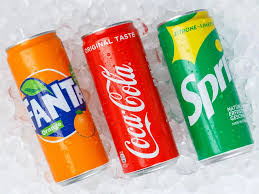can: (4, 5, 255, 189)
